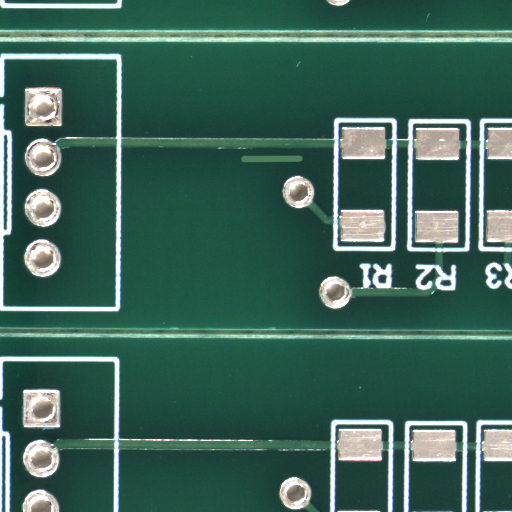Spurious_copper: (271, 158, 336, 169)
